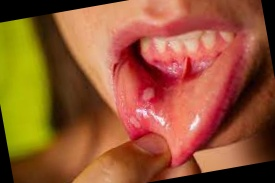Ulcer: (140, 84, 156, 103), (130, 112, 143, 131)
